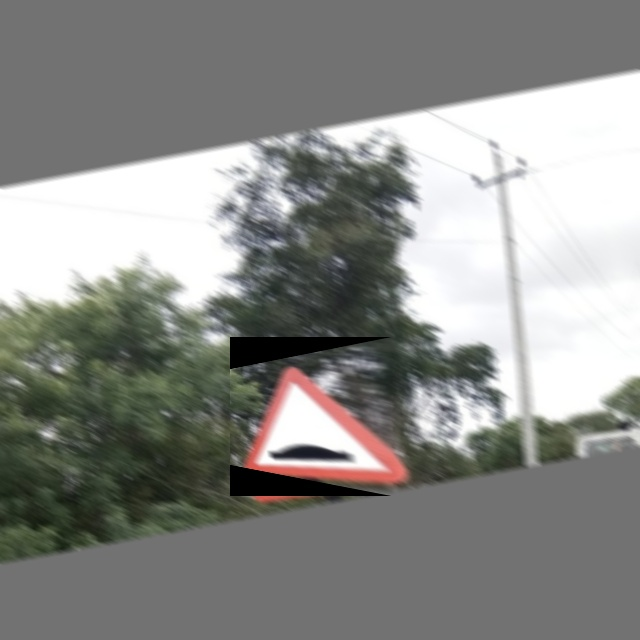Dangerous_Dip: (230, 337, 392, 496)
